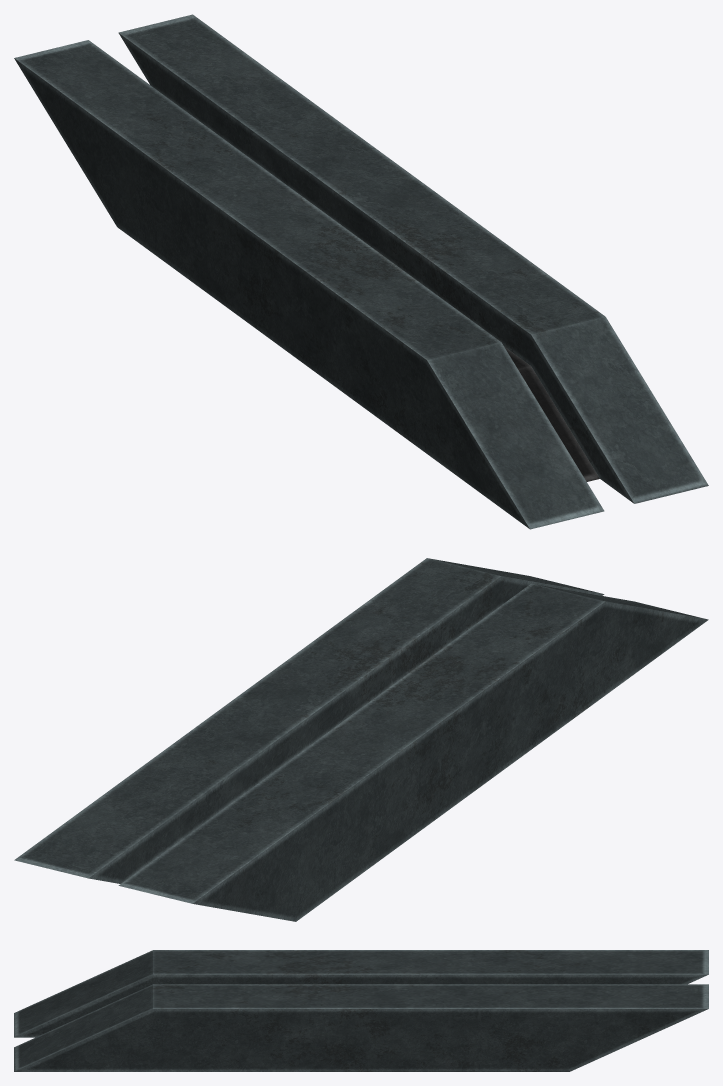
Rendered from SharkBladeHilt.fbx.
3 views of the same model, one above another, from view 1: azimuth 30°, elevation 25°; view 2: azimuth 150°, elevation 25°; view 3: azimuth 270°, elevation 25° (orthographic). The views are drawn at different scales.
Visible parts, largest first — view 1: Fullshark - SharkbladeHilt-2; view 2: Fullshark - SharkbladeHilt-2; view 3: Fullshark - SharkbladeHilt-2.
Part boxes in pixels (x1,y1,x2,y2): Fullshark - SharkbladeHilt-2: (14,14,708,529); Fullshark - SharkbladeHilt-2: (14,558,708,921); Fullshark - SharkbladeHilt-2: (14,950,708,1071).
Size of the model in its own units: 75 by 37.5 by 375.
